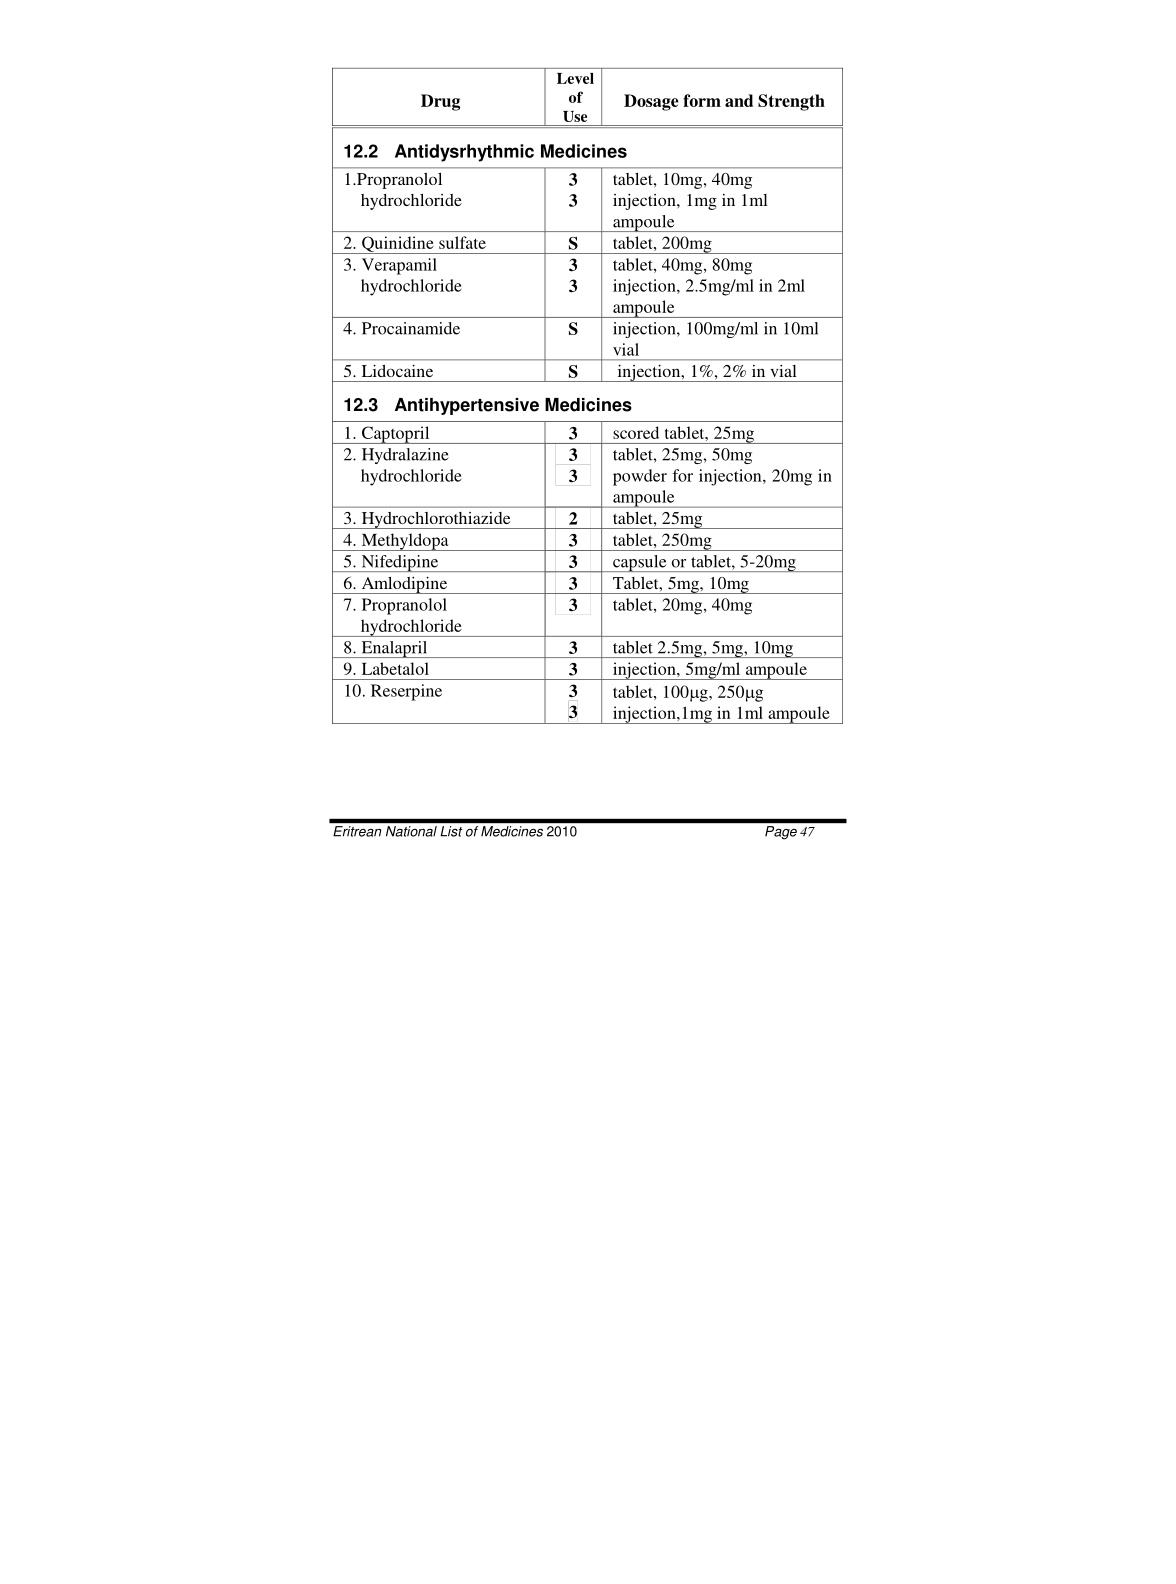merged_cells: (332, 67, 842, 725)
